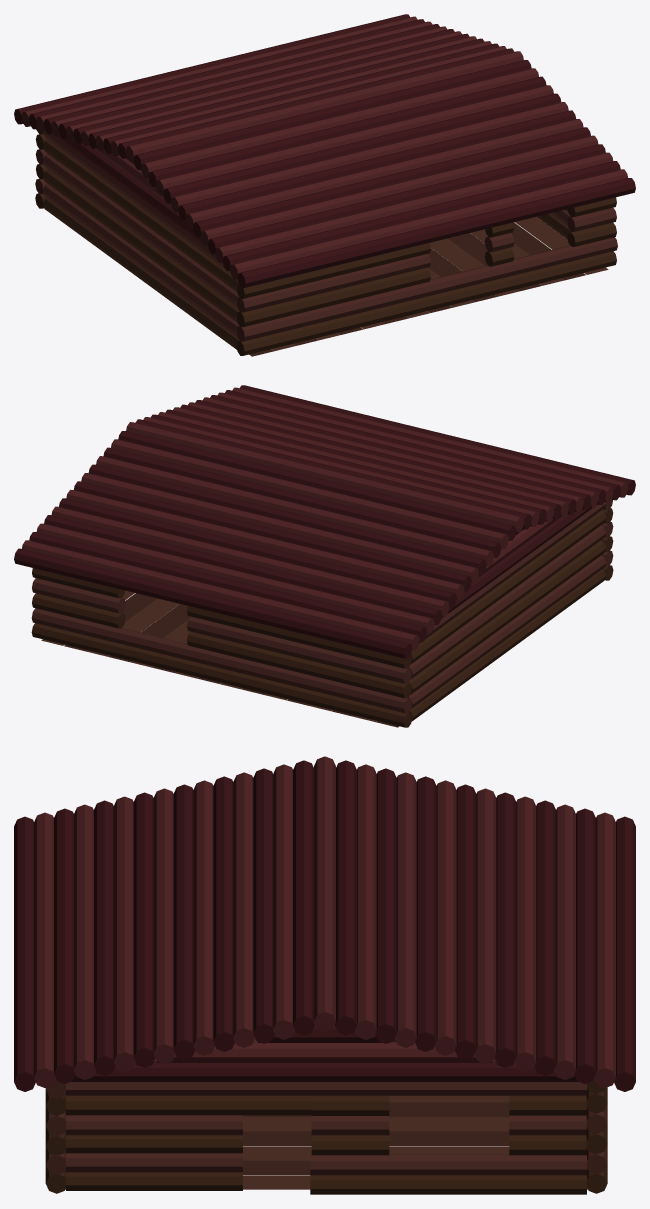
Rendered from Cabañasinwachina.fbx.
3 renders of one model, top to bottom at view 1: azimuth 30°, elevation 25°; view 2: azimuth 150°, elevation 25°; view 3: azimuth 270°, elevation 25°, orthographic. The views are drawn at different scales.
Parts seen in each view (by area): view 1: Cylinder.035, Cylinder.020, Cylinder.007, Suelo, Cylinder.001, Cylinder.002, Cylinder, Cylinder.009; view 2: Cylinder.035, Cylinder, Cylinder.007, Suelo, Cylinder.001, Cylinder.002, Cylinder.020; view 3: Cylinder.035, Cylinder.011, Cylinder.009, Suelo, Cylinder.006, Cylinder.005, Cylinder, Cylinder.020, Cylinder.004.
Part boxes in pixels (box(x1,y1,x2,y2)): Cylinder.035: box(14, 14, 635, 287); Cylinder.020: box(236, 197, 617, 355); Cylinder.007: box(42, 131, 239, 349); Suelo: box(249, 216, 608, 356); Cylinder.001: box(57, 136, 208, 247); Cylinder.002: box(89, 146, 171, 206); Cylinder: box(35, 129, 47, 208); Cylinder.009: box(537, 209, 570, 239); Cylinder.035: box(14, 385, 635, 658); Cylinder: box(31, 568, 412, 727); Cylinder.007: box(408, 502, 606, 721); Suelo: box(41, 590, 398, 727); Cylinder.001: box(441, 505, 596, 618); Cylinder.002: box(478, 517, 560, 577); Cylinder.020: box(601, 499, 613, 580); Cylinder.035: box(14, 756, 635, 1091); Cylinder.011: box(310, 1082, 586, 1194); Cylinder.009: box(66, 1082, 311, 1190); Suelo: box(65, 1039, 587, 1189); Cylinder.006: box(71, 1061, 578, 1081); Cylinder.005: box(156, 1042, 491, 1062); Cylinder: box(586, 1079, 607, 1193); Cylinder.020: box(45, 1079, 66, 1193); Cylinder.004: box(258, 1025, 390, 1042).
Bounding box in the file's own units: 2732 × 949 × 2810.
